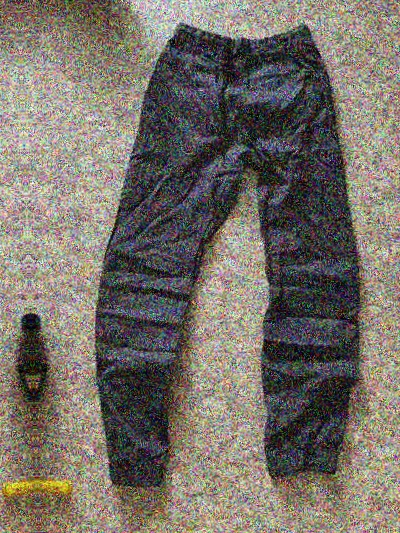Pants: (48, 15, 396, 493), (0, 29, 8, 508)
